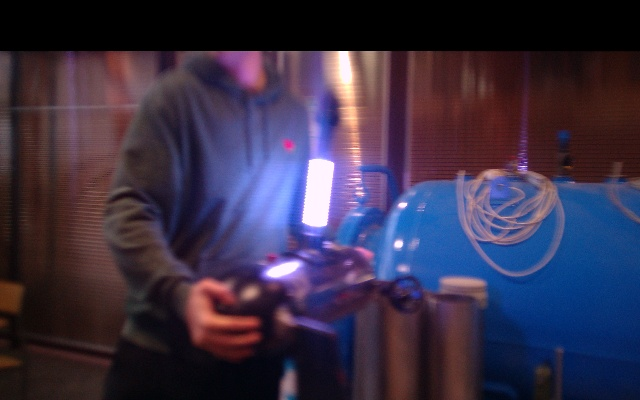white: (302, 158, 335, 228)
